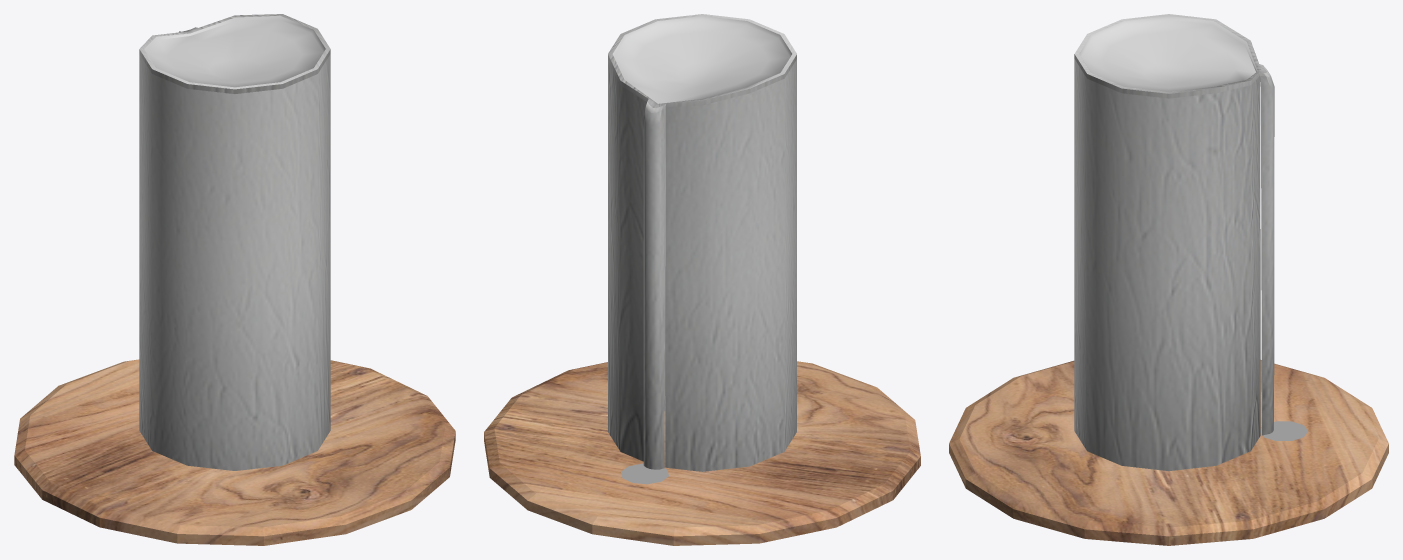
File: candle.glb
The picture shows the model from 3 angles, left to right: view 1: azimuth 30°, elevation 25°; view 2: azimuth 150°, elevation 25°; view 3: azimuth 270°, elevation 25°; orthographic projection.
Parts seen in each view (by area): view 1: Candle, Stand; view 2: Candle, Stand; view 3: Candle, Stand.
Part boxes in pixels (bbox=[...]): Candle: bbox=[139, 14, 330, 470]; Stand: bbox=[14, 359, 455, 545]; Candle: bbox=[608, 14, 796, 484]; Stand: bbox=[484, 361, 920, 545]; Candle: bbox=[1074, 14, 1308, 471]; Stand: bbox=[949, 360, 1388, 545].
Bounding box in the file's own units: 210 × 249 × 210.
Materials: 3 (3 with a texture image).
